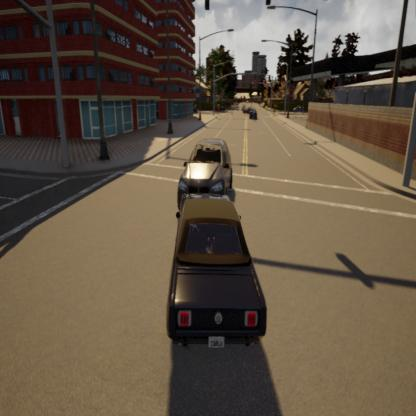Cars: (165, 200, 269, 361), (175, 136, 235, 212)
